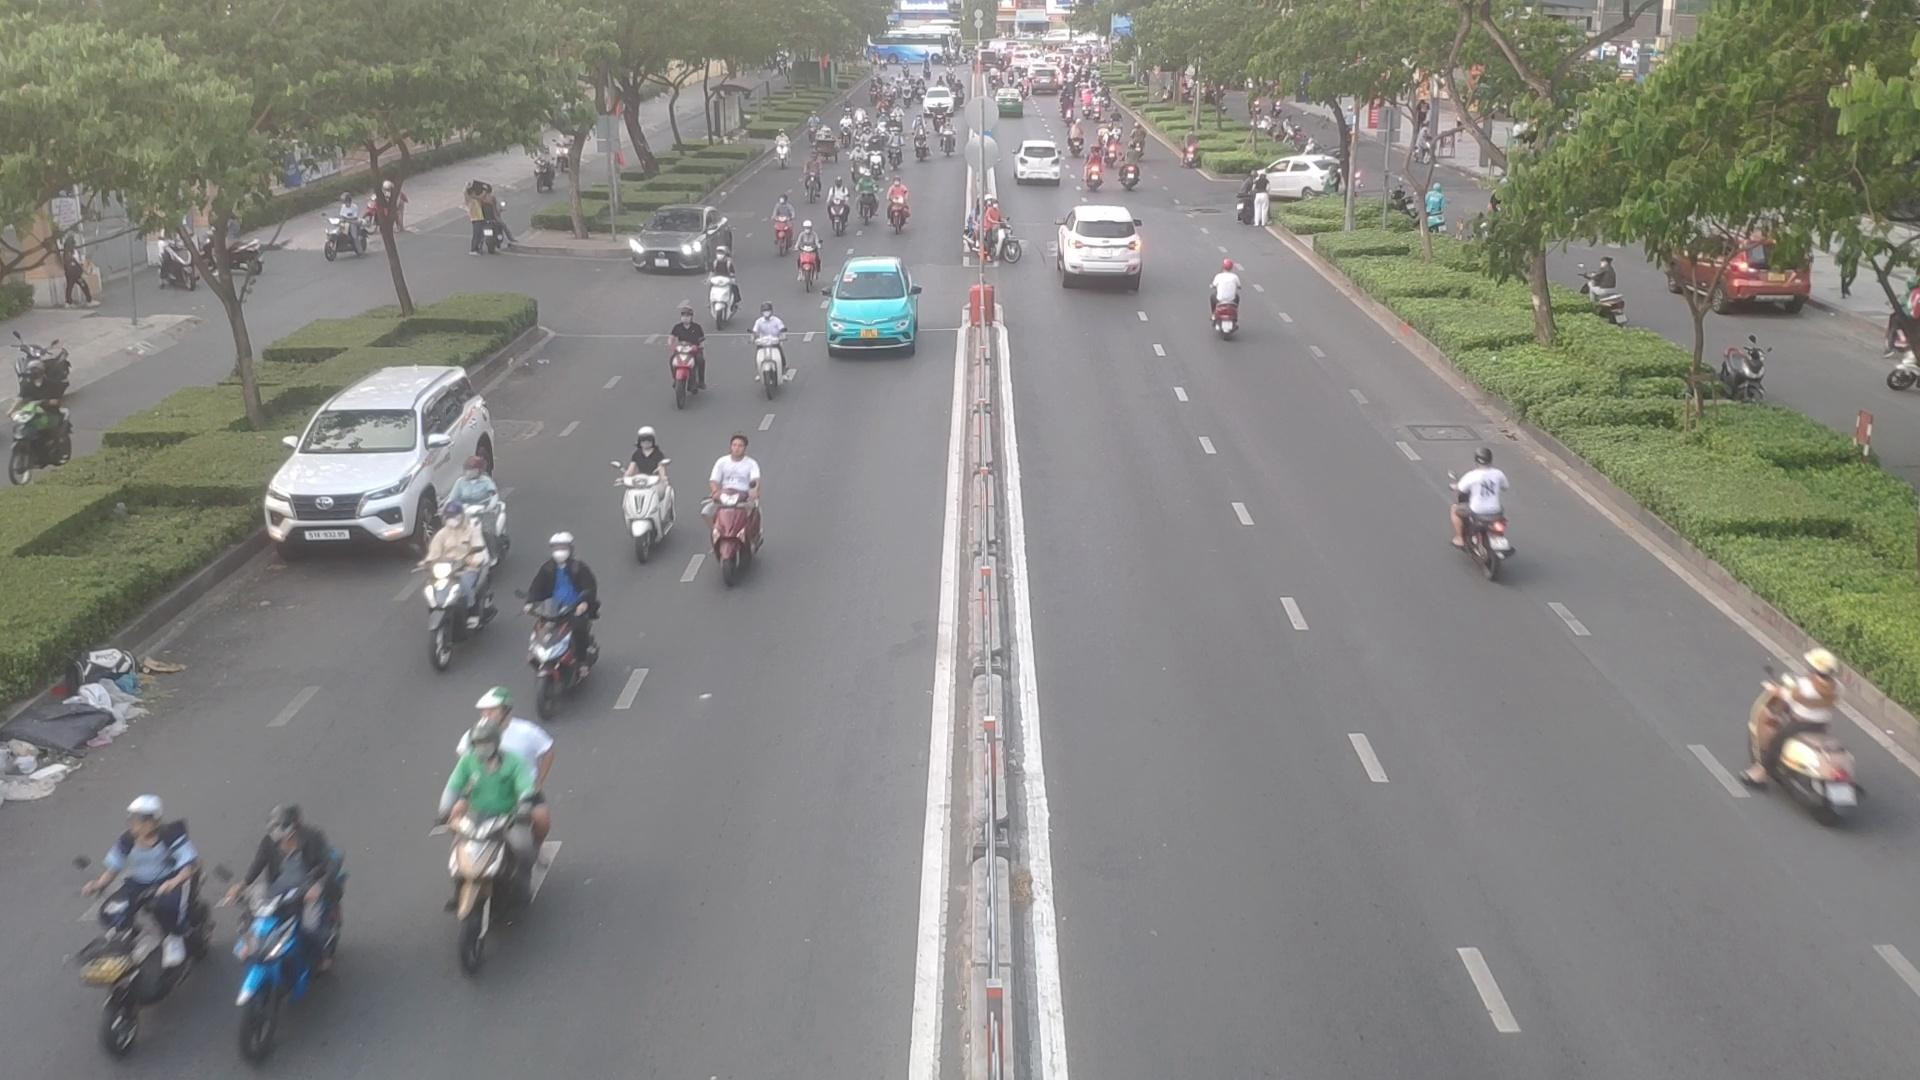car: (264, 365, 500, 560), (823, 255, 926, 359), (1059, 204, 1150, 290), (622, 204, 731, 274), (1015, 140, 1060, 185)
motorbike: (66, 767, 196, 1064), (208, 793, 361, 1042), (413, 683, 539, 922), (1726, 626, 1863, 829), (529, 526, 603, 736), (418, 498, 506, 670), (1451, 436, 1531, 596), (703, 438, 773, 597), (613, 413, 676, 588), (748, 301, 789, 393), (670, 306, 712, 394), (702, 253, 742, 339), (1203, 256, 1236, 338), (975, 204, 1019, 264), (770, 199, 803, 262), (804, 149, 832, 218), (884, 179, 916, 235), (800, 218, 824, 290), (1121, 146, 1145, 189), (825, 178, 844, 229), (865, 135, 885, 178), (858, 173, 877, 215), (887, 131, 905, 173), (1085, 148, 1102, 189), (775, 127, 789, 166), (851, 146, 866, 179)
